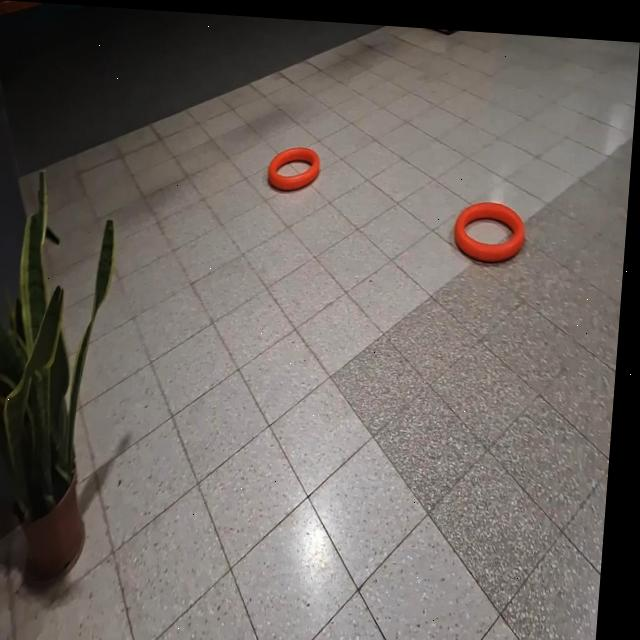note: (456, 193, 530, 259), (270, 140, 324, 189)
